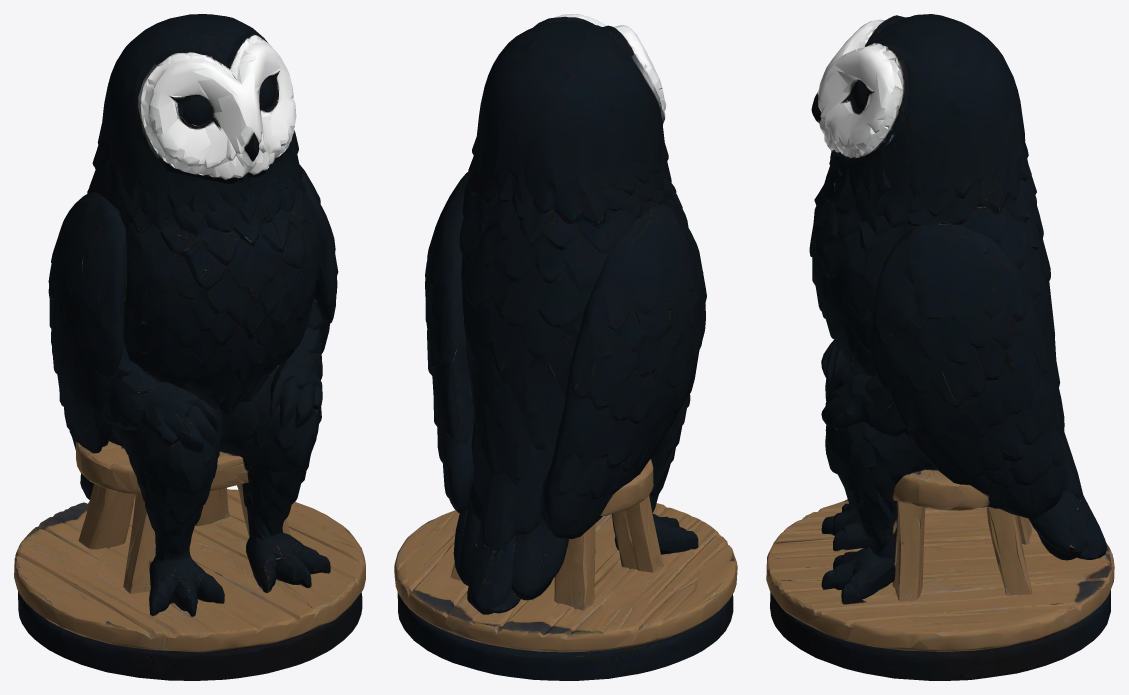
Rendered from wanshitong2.glb.
3 renders of one model, left to right at view 1: azimuth 30°, elevation 25°; view 2: azimuth 150°, elevation 25°; view 3: azimuth 270°, elevation 25°, orthographic. The views are drawn at different scales.
Parts seen in each view (by area): view 1: Mesh_0; view 2: Mesh_0; view 3: Mesh_0.
Part boxes in pixels (left/top/right/bottom): Mesh_0: left=14, top=14, right=365, bottom=680; Mesh_0: left=394, top=14, right=737, bottom=680; Mesh_0: left=766, top=14, right=1114, bottom=680.
Bounding box in the file's own units: 1.03 × 1.9 × 1.03.
1 material, 1 textured.
